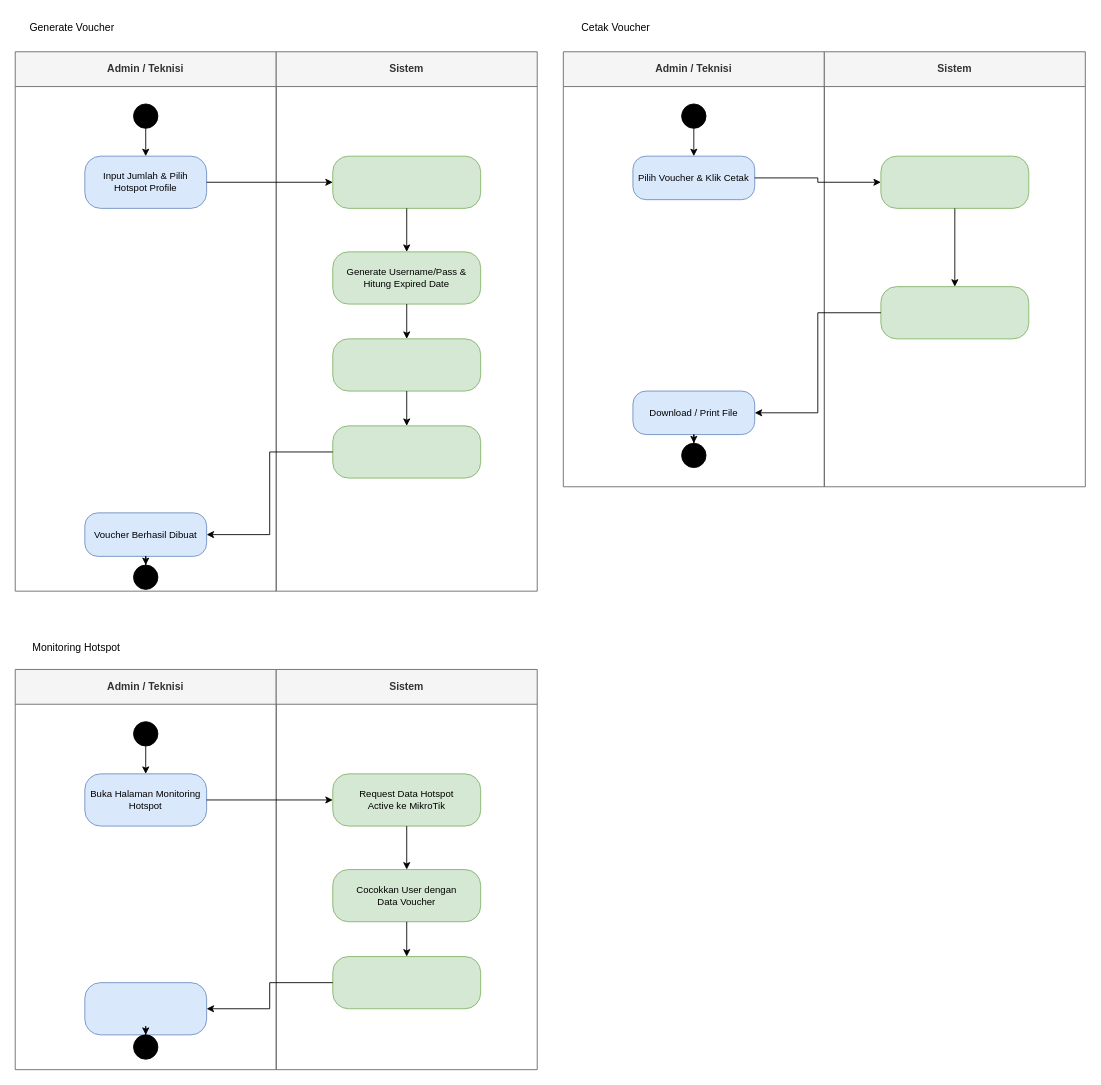
This 1101x1085 diagram has some shape labels left out. Here are the shapes that lost their labels. From the top down, the box of each, then its label:
(332, 155, 481, 208): Ambil Parameter dari Hotspot Profile (Speed, Validity)
(880, 155, 1029, 208): Ambil Detail Voucher dari Database
(880, 286, 1029, 339): Format Layout Voucher (PDF / HTML)
(332, 338, 481, 391): Simpan ke Tabel Hotspot Users
(332, 425, 481, 478): Kirim Command: /ip hotspot user add...
(332, 956, 481, 1009): Update Status User (Online / Offline)
(84, 982, 207, 1035): Tampilkan Dashboard (User Online & Statistik)
